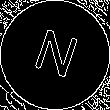N_S: (28, 24, 82, 86)
